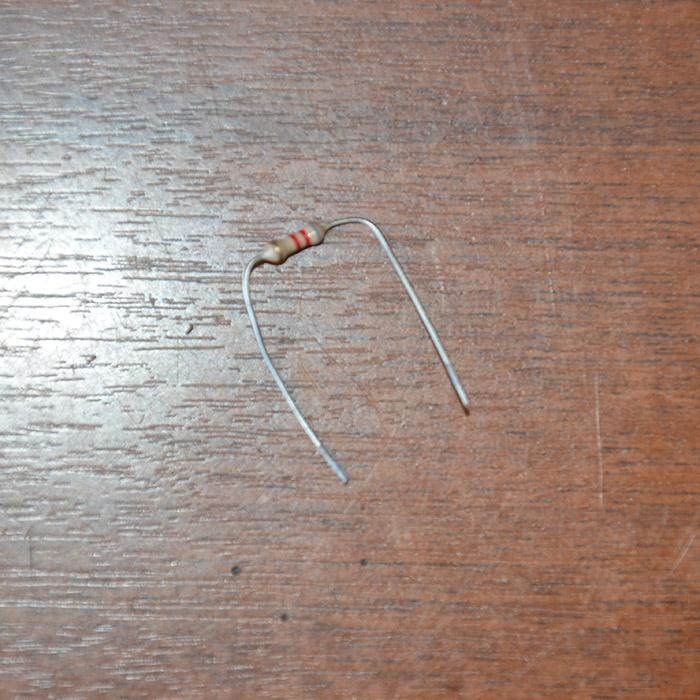resistor: (259, 223, 328, 266)
